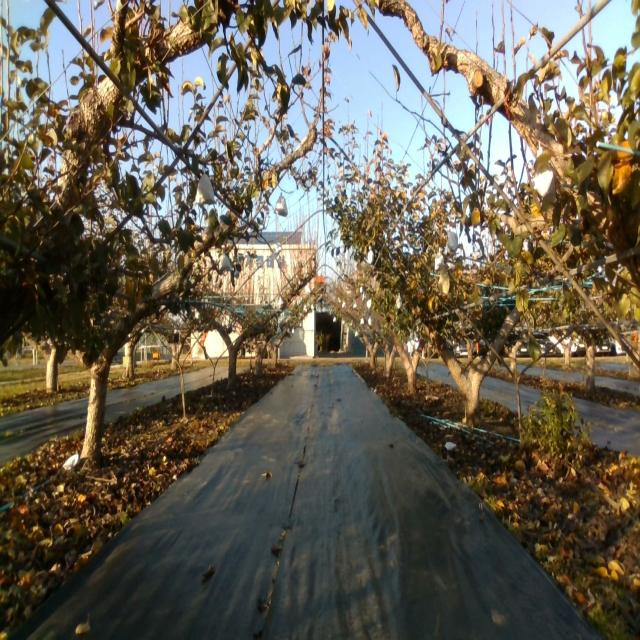pearbags: (195, 172, 215, 206), (534, 170, 555, 200), (274, 193, 288, 217), (219, 250, 232, 272), (434, 247, 444, 272), (448, 231, 458, 253)
